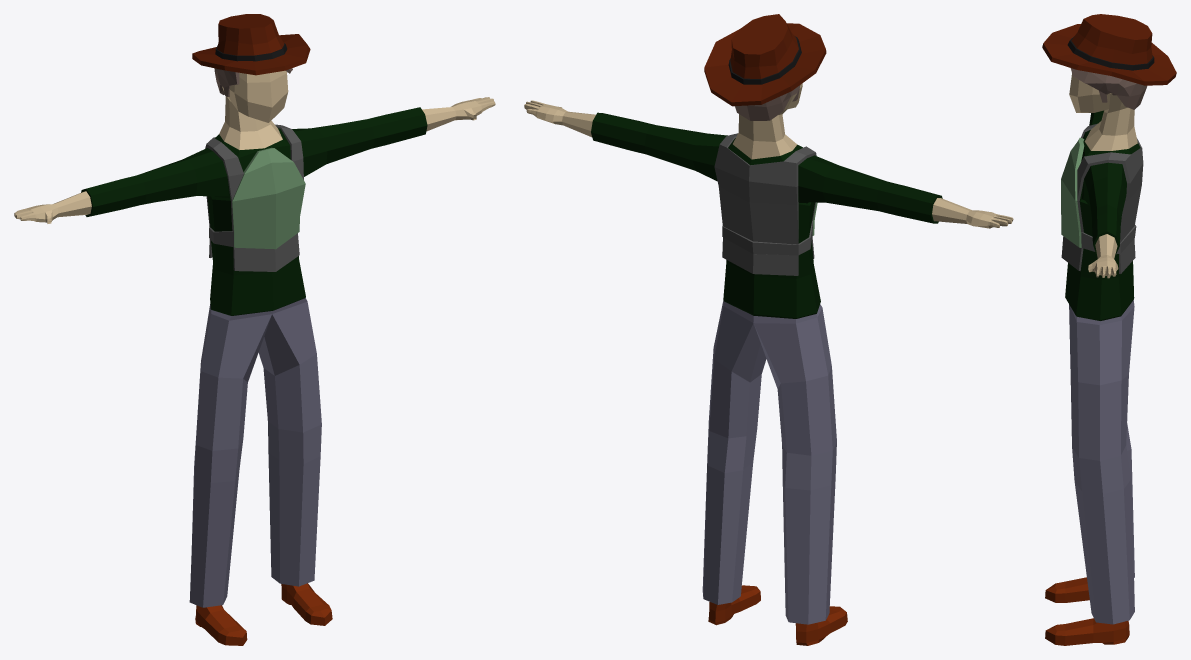
Rendered from SuperGuy.fbx.
The picture shows the model from 3 angles, left to right: view 1: azimuth 30°, elevation 25°; view 2: azimuth 150°, elevation 25°; view 3: azimuth 270°, elevation 25°; orthographic projection.
Parts seen in each view (by area): view 1: Cube, Hat; view 2: Cube, Hat, Mesh.002; view 3: Cube, Hat, Mesh.002.
Boxes of the visible parts, <box> form: Cube: <box>14,70,495,645</box>; Hat: <box>192,14,310,75</box>; Cube: <box>524,83,1013,645</box>; Hat: <box>704,14,826,106</box>; Mesh.002: <box>735,85,800,120</box>; Cube: <box>1045,73,1143,645</box>; Hat: <box>1042,14,1176,85</box>; Mesh.002: <box>1070,68,1147,109</box>.
Bounding box in the file's own units: 2613 × 3111 × 633.
